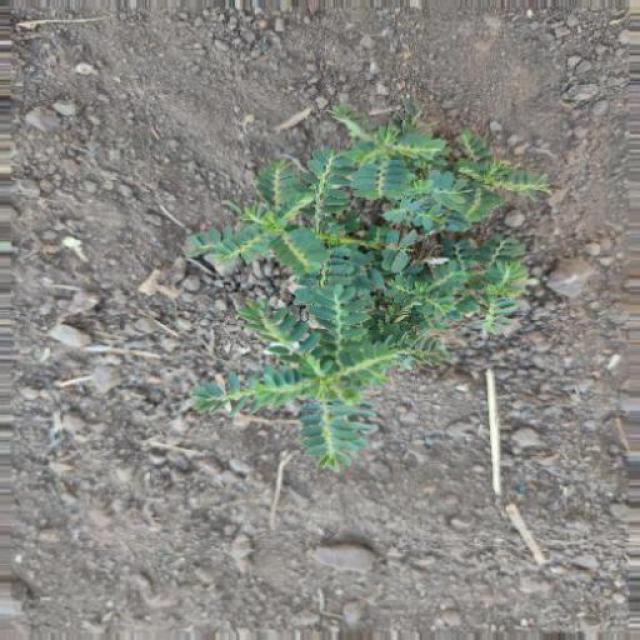weed: (202, 96, 568, 478)
